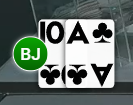10: (37, 18, 65, 47)
a: (64, 18, 92, 47)
